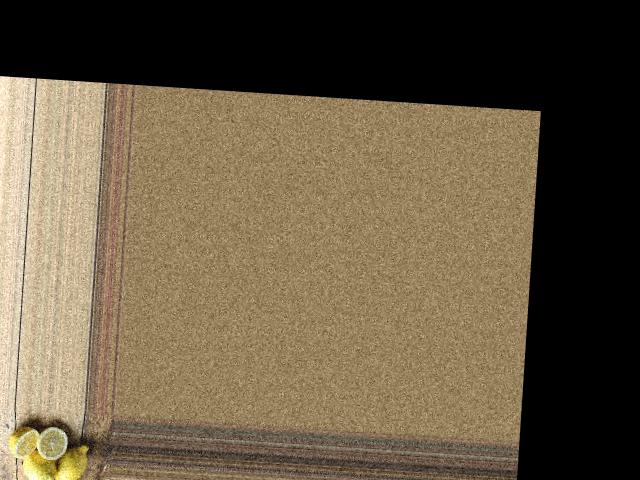lemon: (53, 440, 93, 480)
